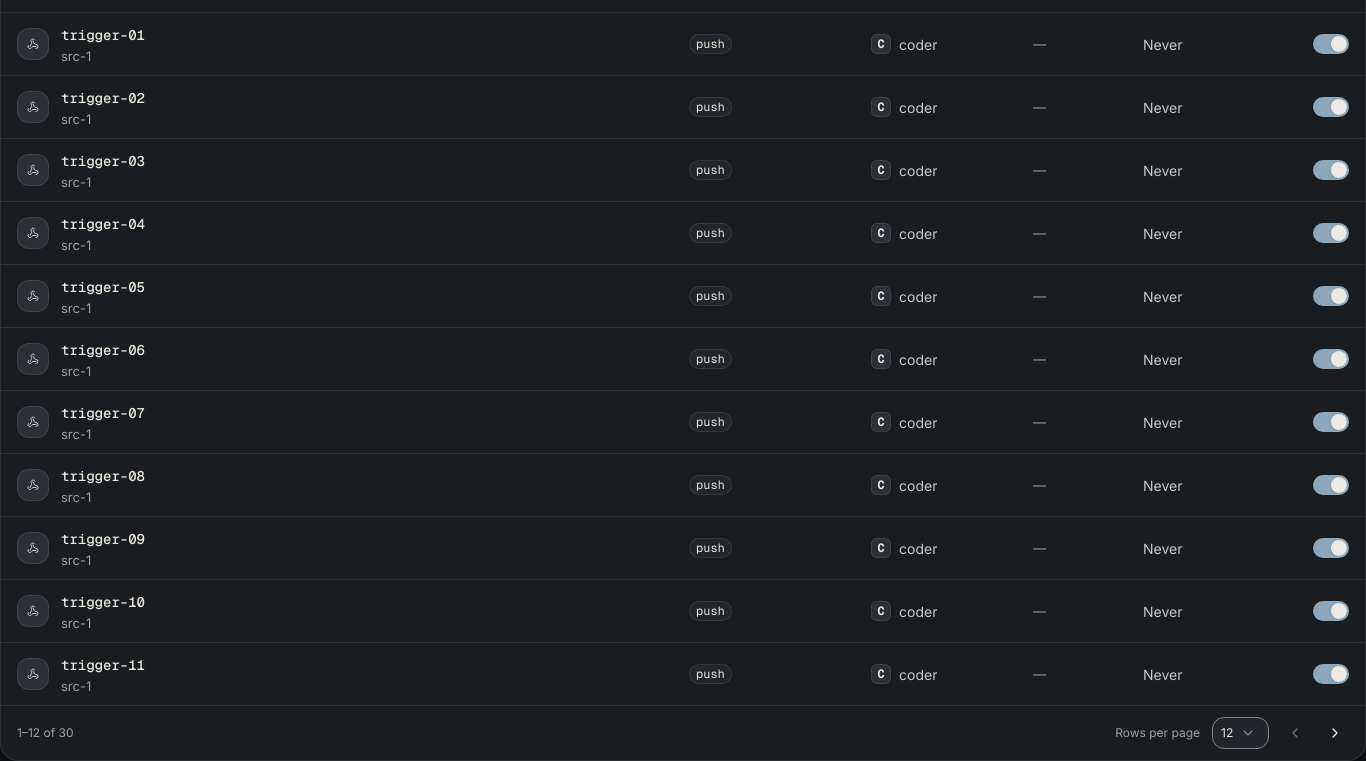
pagination › pages forward and back
(page scrolled)
Click the button named "Next page" at (1335, 733), box top-left (1321, 719), bottom-right (1349, 747)
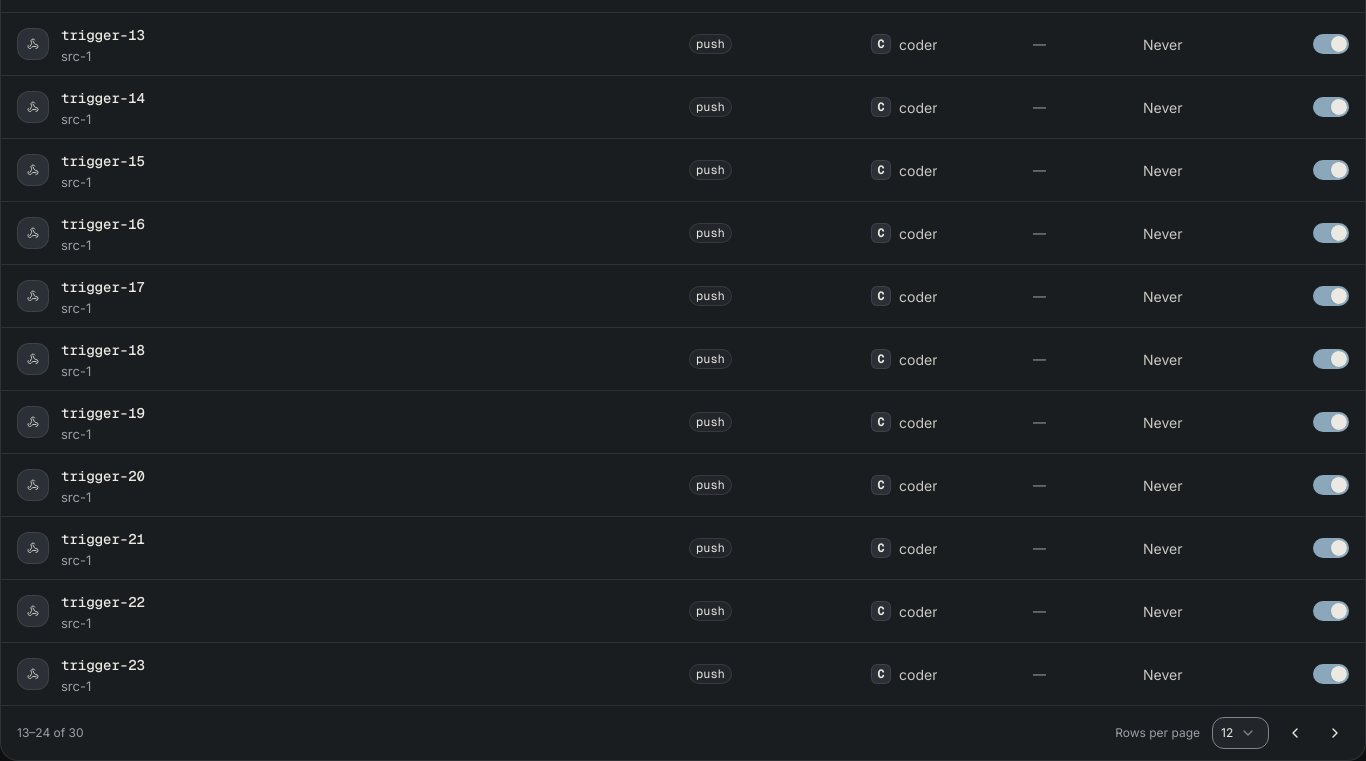
Expected: the text "trigger-00" is not shown
Now the text "13–24 of 30" is shown, box top-left (17, 725), bottom-right (84, 741)
Click the button named "Previous page" at (1295, 733), box top-left (1281, 719), bottom-right (1309, 747)
(page scrolled)
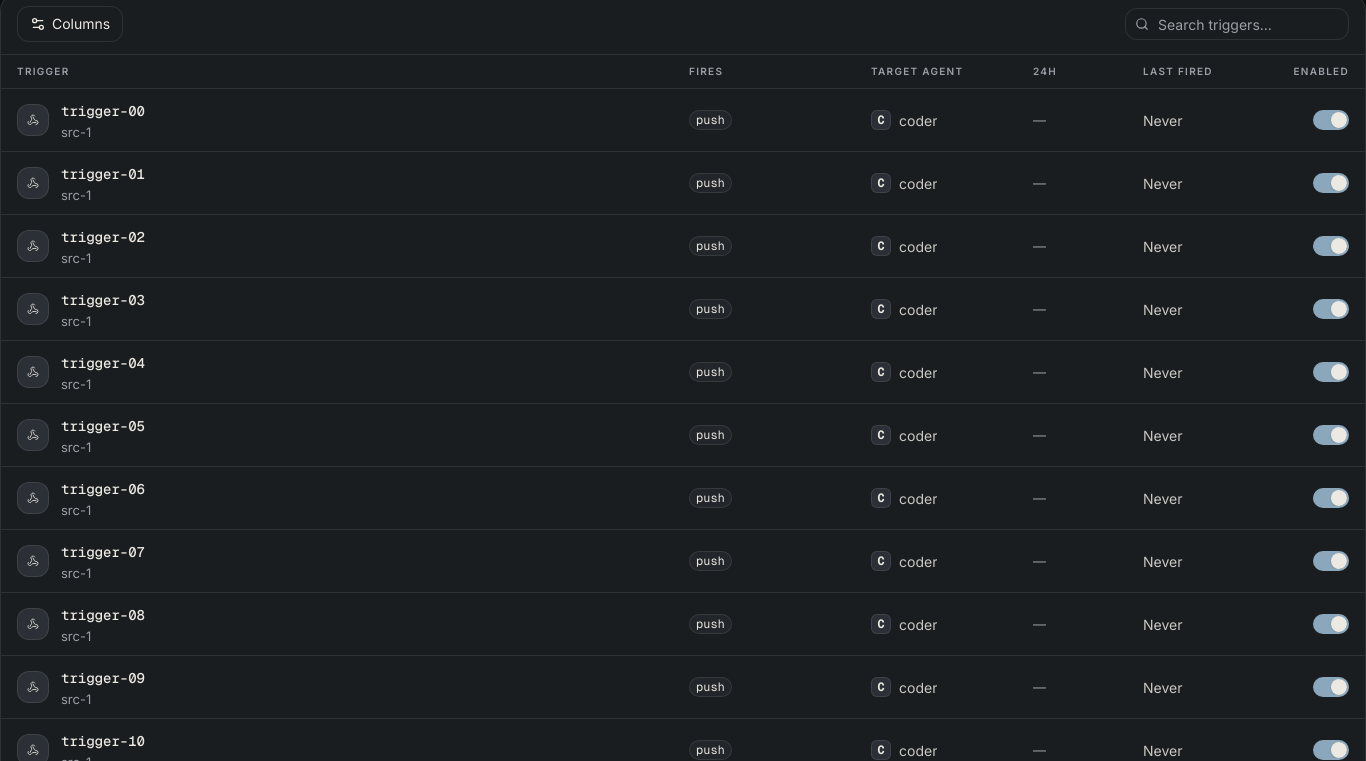
Now the text "trigger-00" is shown, box top-left (61, 101), bottom-right (145, 122)
